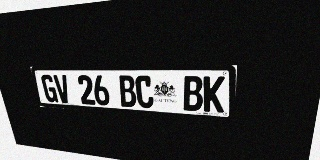2: (77, 75, 96, 105)
6: (91, 75, 110, 106)
B: (183, 76, 203, 111), (118, 75, 137, 107)
C: (135, 75, 154, 108)
G: (40, 75, 58, 103)
K: (203, 76, 225, 113)
V: (53, 75, 71, 103)
